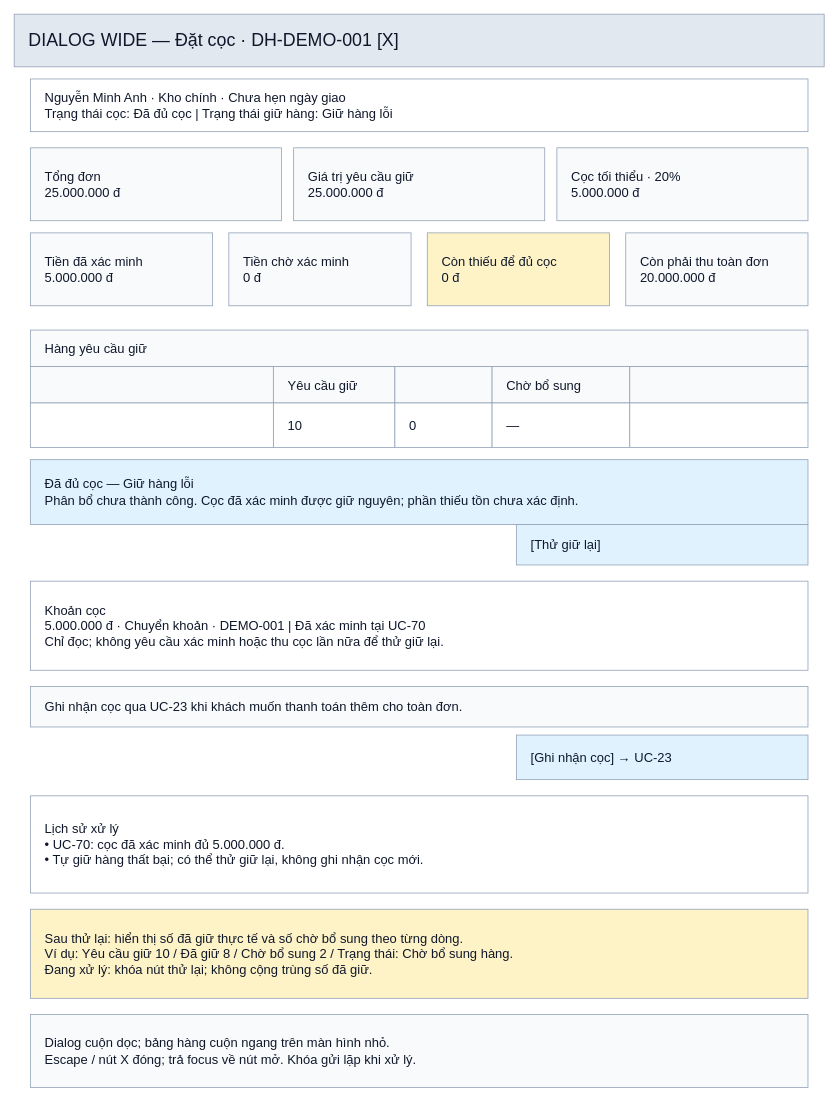
Image size: 838x1102. Some labels were removed from this diagram. Each missing label, with the centre of its shape:
"Giữ hàng lỗi" belongs at pixel 718 425.
"Lavabo đặt bàn trắng" belongs at pixel 151 425.
"Sản phẩm" belongs at pixel 151 384.
"Trạng thái" belongs at pixel 718 384.
"Đã giữ" belongs at pixel 443 384.
